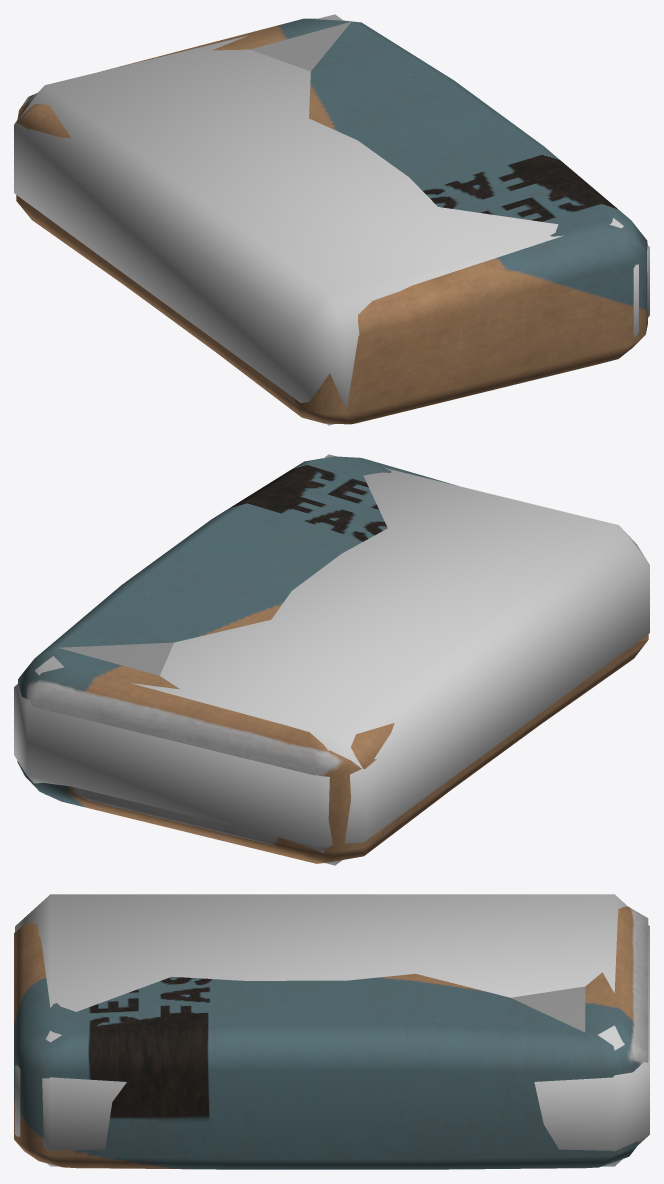
File: ut_concrete_bag.DAE
The picture shows the model from 3 angles, top to bottom: view 1: azimuth 30°, elevation 25°; view 2: azimuth 150°, elevation 25°; view 3: azimuth 270°, elevation 25°; orthographic projection.
Visible parts, largest first — view 1: Colmesh-1, ut_concrete_bag60, ut_concrete_bag10, ut_concrete_bag30; view 2: Colmesh-1, ut_concrete_bag60, ut_concrete_bag10, ut_concrete_bag30; view 3: ut_concrete_bag60, Colmesh-1, ut_concrete_bag10.
Part boxes in pixels (left/top/right/bottom): Colmesh-1: left=14, top=14, right=649, bottom=425; ut_concrete_bag60: left=16, top=18, right=647, bottom=424; ut_concrete_bag10: left=250, top=21, right=351, bottom=71; ut_concrete_bag30: left=17, top=122, right=300, bottom=408; Colmesh-1: left=14, top=454, right=649, bottom=865; ut_concrete_bag60: left=17, top=456, right=648, bottom=863; ut_concrete_bag10: left=58, top=642, right=173, bottom=675; ut_concrete_bag30: left=365, top=640, right=647, bottom=845; ut_concrete_bag60: left=14, top=906, right=648, bottom=1169; Colmesh-1: left=15, top=894, right=649, bottom=1166; ut_concrete_bag10: left=511, top=986, right=585, bottom=1032.
Bounding box in the file's own units: 52.74 × 81.58 × 20.31.
